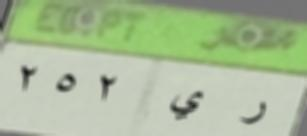2: (90, 74, 125, 108), (13, 61, 43, 100)
5: (50, 65, 78, 105)
raa: (232, 90, 272, 134)
yaa: (161, 89, 209, 124)
